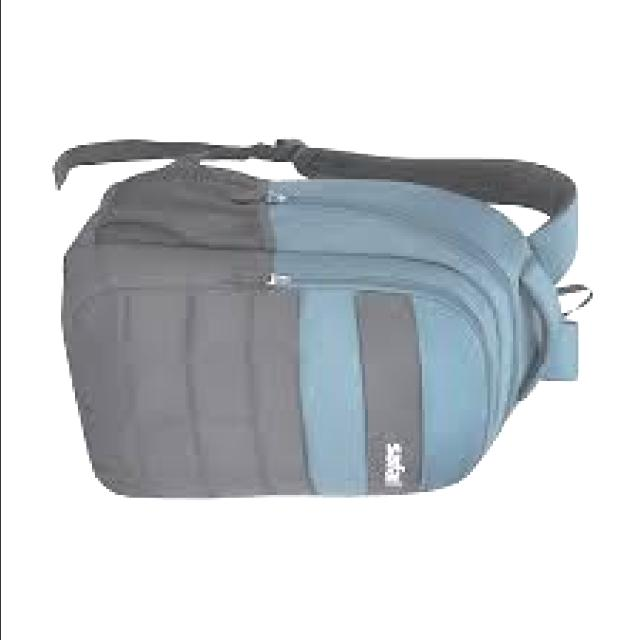backpack: (56, 138, 596, 499)
